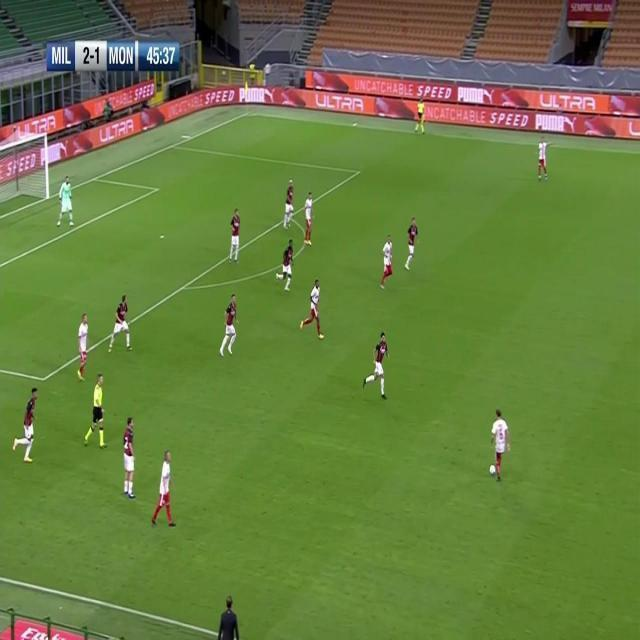ball: (489, 463, 497, 474)
goalkeeper: (56, 173, 74, 227)
player: (11, 389, 37, 463), (151, 450, 175, 528), (363, 328, 389, 399), (488, 407, 511, 480), (300, 277, 324, 339), (108, 293, 131, 353), (218, 294, 239, 358), (121, 421, 137, 500), (76, 311, 90, 381), (277, 241, 294, 293), (379, 234, 394, 290), (403, 215, 418, 270), (228, 208, 241, 263), (302, 190, 314, 246), (536, 134, 549, 182), (282, 179, 294, 229)
referee: (84, 374, 108, 448), (414, 93, 426, 135)
